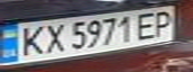1: (115, 12, 139, 43)
5: (66, 18, 87, 51)
7: (100, 15, 121, 46)
9: (84, 17, 106, 48)
E: (133, 9, 163, 40)
K: (12, 23, 48, 57)
P: (148, 8, 178, 38)
X: (39, 20, 69, 55)
